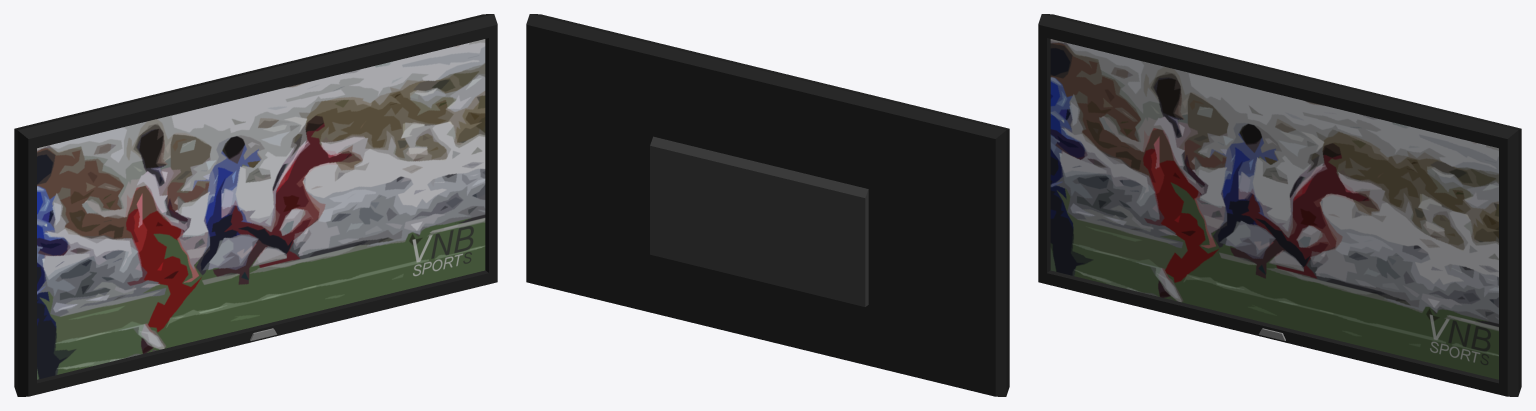
3 views of the same model, side by side, from view 1: azimuth 30°, elevation 25°; view 2: azimuth 150°, elevation 25°; view 3: azimuth 330°, elevation 25° (orthographic).
Visible parts, largest first — view 1: Mounted_TV; view 2: Mounted_TV; view 3: Mounted_TV.
Part boxes in pixels (x1,y1,x2,y2): Mounted_TV: (14,14,497,396); Mounted_TV: (526,14,1009,396); Mounted_TV: (1038,14,1521,396).
Size of the model in its own units: 1.35 by 0.7229 by 0.0909.
2 materials, 2 textured.
